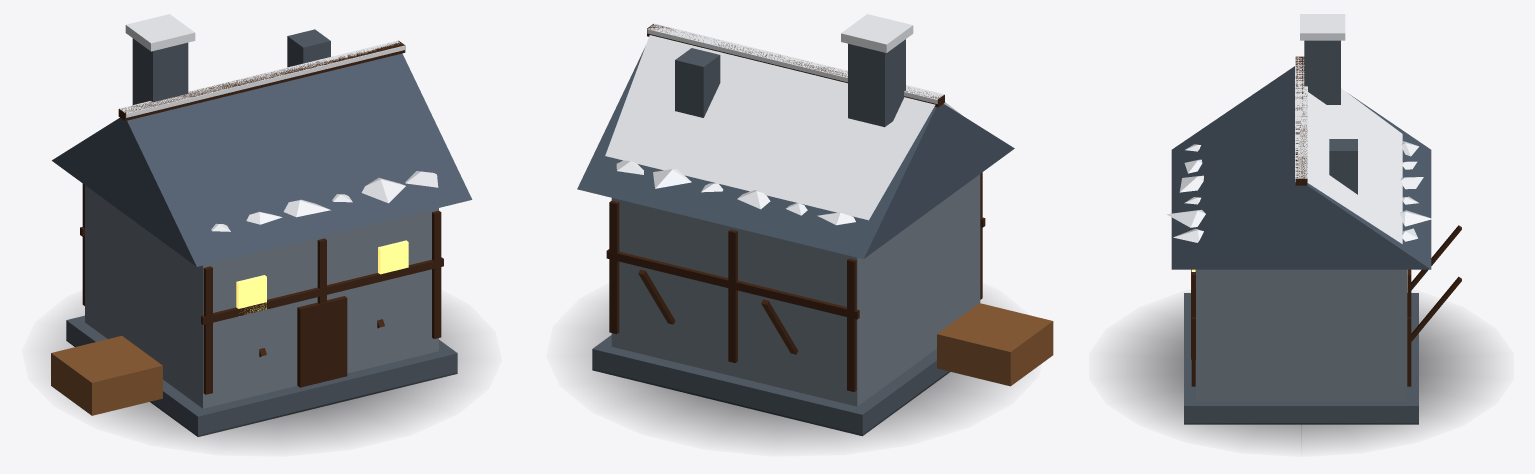
File: shelter_t2.glb
3 views of the same model, side by side, from view 1: azimuth 30°, elevation 25°; view 2: azimuth 150°, elevation 25°; view 3: azimuth 270°, elevation 25° (orthographic). The views are drawn at different scales.
Parts seen in each view (by area): view 1: shelter_t2; view 2: shelter_t2; view 3: shelter_t2.
Part boxes in pixels (bbox=[...]): shelter_t2: bbox=[51, 14, 472, 443]; shelter_t2: bbox=[577, 14, 1053, 443]; shelter_t2: bbox=[1115, 14, 1487, 448].
Size of the model in its own units: 5.46 by 4.15 by 5.4.
